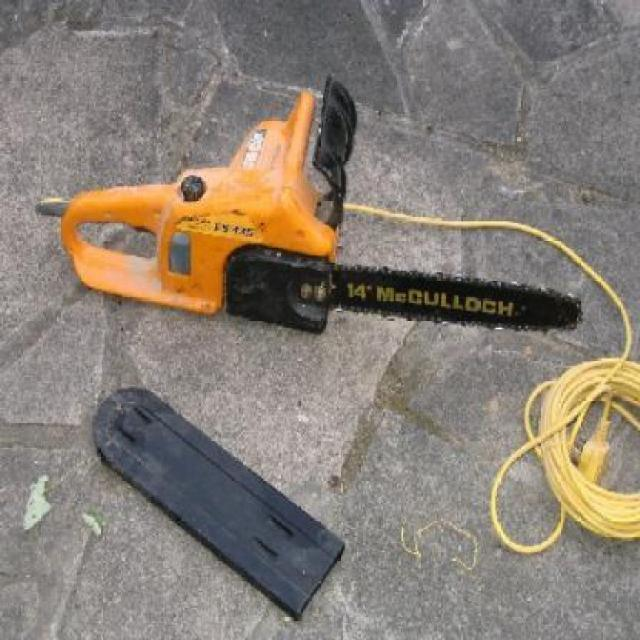Chainsaw: (63, 76, 602, 342)
